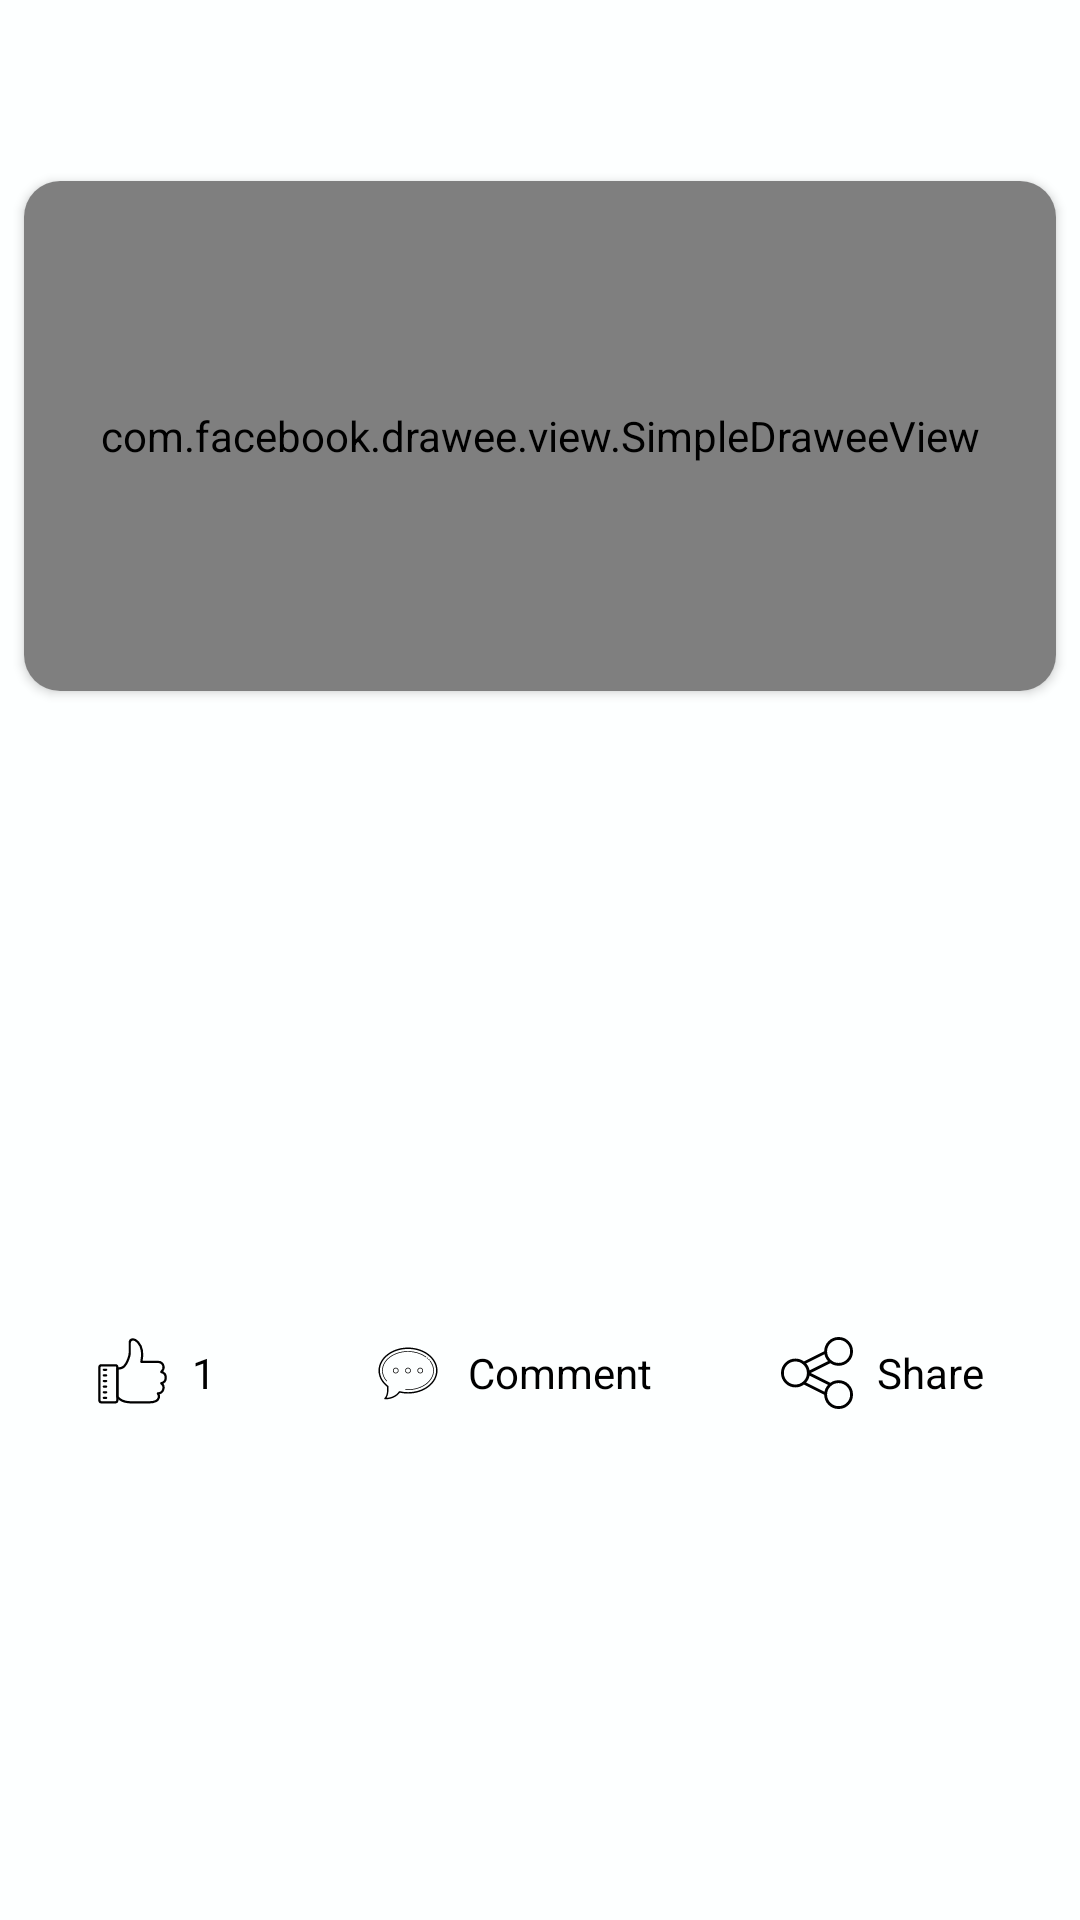

Point at icon controls on the screen. Image size 1080*1920, points as (x=x, y=y).
facebook like: (x=132, y=1371)
speech bubble: (x=408, y=1373)
